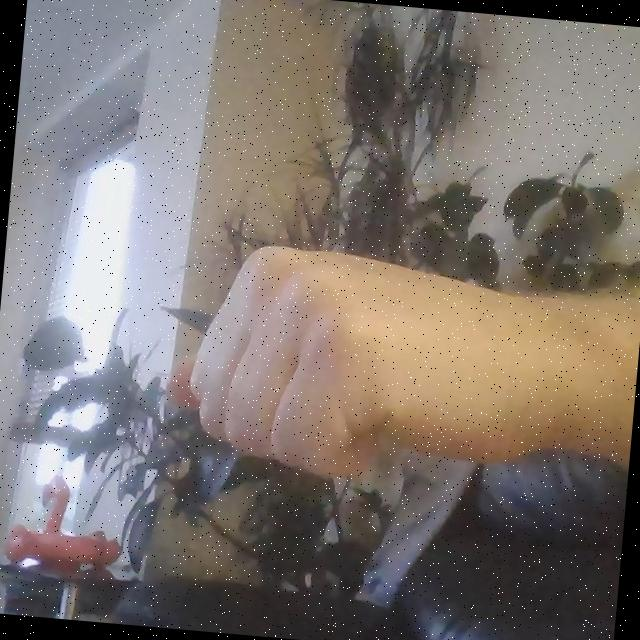rock: (177, 235, 548, 498)
